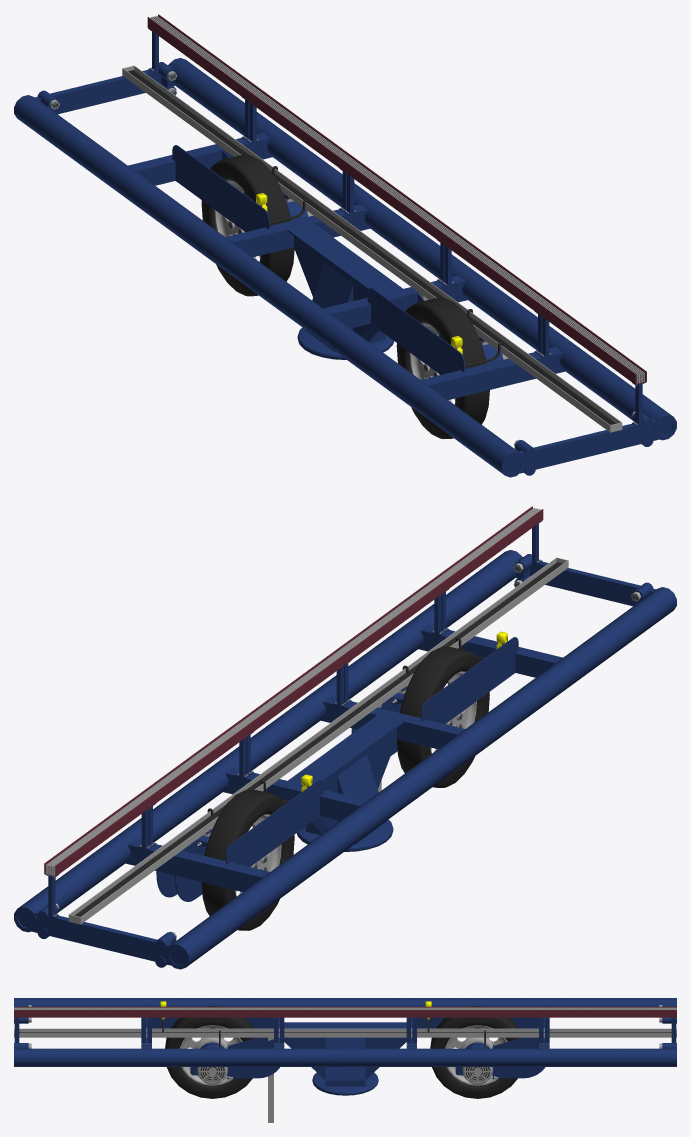
Rendered from Station Midsection.dae.
3 renders of one model, top to bottom at view 1: azimuth 30°, elevation 25°; view 2: azimuth 150°, elevation 25°; view 3: azimuth 270°, elevation 25°, orthographic. The views are drawn at different scales.
Parts seen in each view (by area): view 1: Track (×8), Mid_Detail (×6), wheel0, wheel1, High_Detail (×2); view 2: Track (×8), Mid_Detail (×6), High_Detail (×3), wheel0, wheel1; view 3: Track (×4), Mid_Detail (×6), High_Detail (×5), wheel1 (×3), wheel0 (×3).
Boxes of the visible parts, x1,y1,x2,y2 form: Track (×8): [14, 58, 676, 477]; Mid_Detail (×6): [122, 14, 646, 432]; wheel0: [396, 298, 489, 438]; wheel1: [201, 155, 294, 296]; High_Detail (×2): [129, 70, 615, 424]; Track (×8): [14, 550, 676, 969]; Mid_Detail (×6): [44, 506, 568, 924]; High_Detail (×3): [75, 562, 561, 916]; wheel0: [396, 647, 489, 787]; wheel1: [201, 790, 294, 930]; Track (×4): [14, 998, 676, 1095]; Mid_Detail (×6): [14, 1006, 676, 1122]; High_Detail (×5): [19, 1032, 671, 1083]; wheel1 (×3): [430, 1006, 521, 1098]; wheel0 (×3): [165, 1006, 256, 1098].
Bounding box in the file's own units: 40.76 × 197 × 39.54.
Materials: 9 (3 with a texture image).
